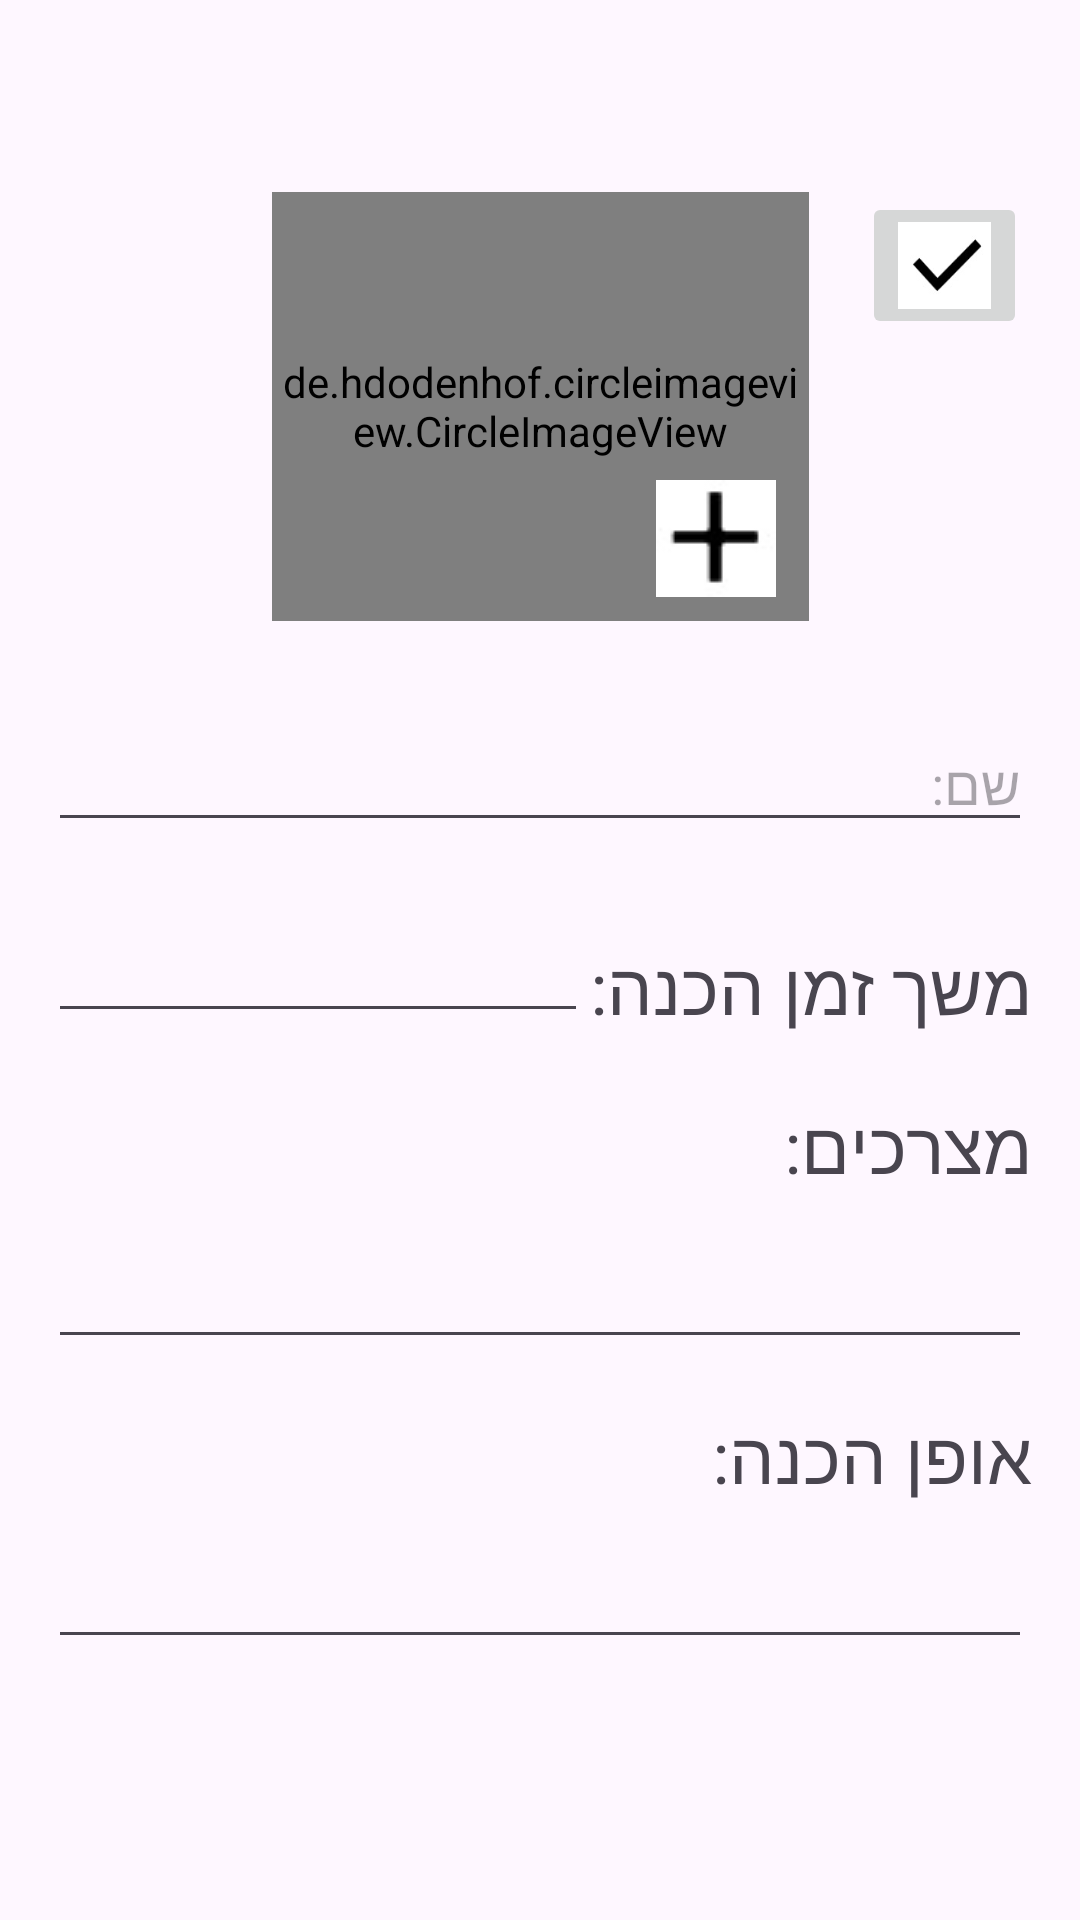

Where icons sit on this 1080x1920 app screen, as (x1, y1, x2, y2):
plus: (656, 480, 776, 597)
save: (874, 210, 1015, 321)
